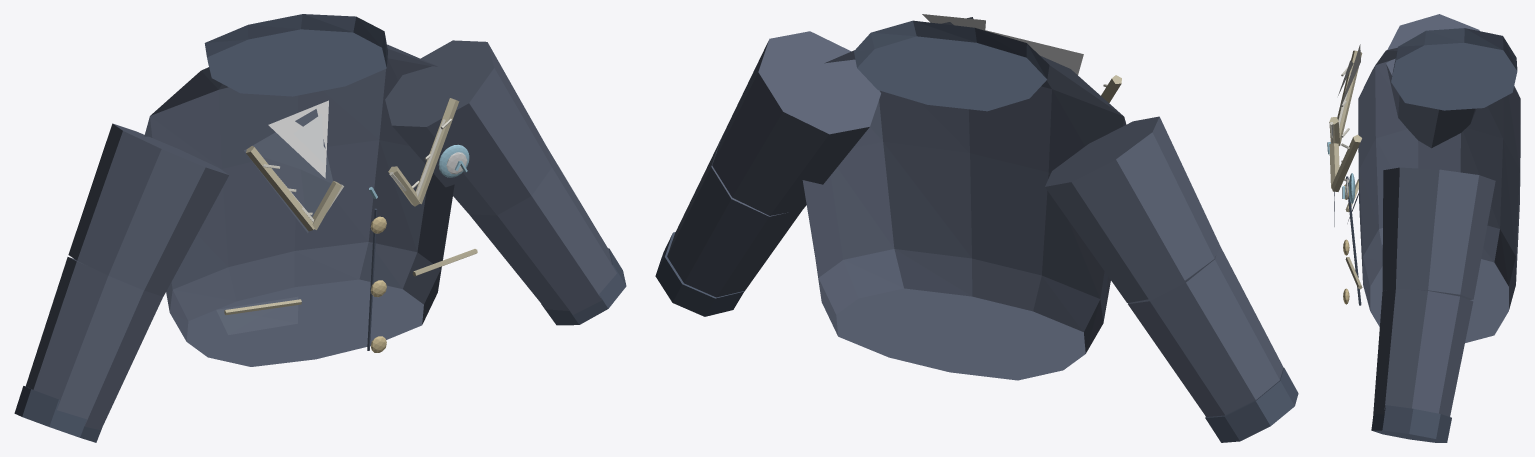
File: top_blazer.glb
3 renders of one model, left to right at view 1: azimuth 30°, elevation 25°; view 2: azimuth 150°, elevation 25°; view 3: azimuth 270°, elevation 25°, orthographic. The views are drawn at different scales.
Visible parts, largest first — view 1: top_blazer_merged; view 2: top_blazer_merged; view 3: top_blazer_merged.
Boxes of the visible parts, left/top/right/bottom form: top_blazer_merged: left=14, top=14, right=626, bottom=442; top_blazer_merged: left=655, top=14, right=1298, bottom=442; top_blazer_merged: left=1327, top=14, right=1520, bottom=442.
Size of the model in its own units: 0.7422 by 0.3728 by 0.2368.
